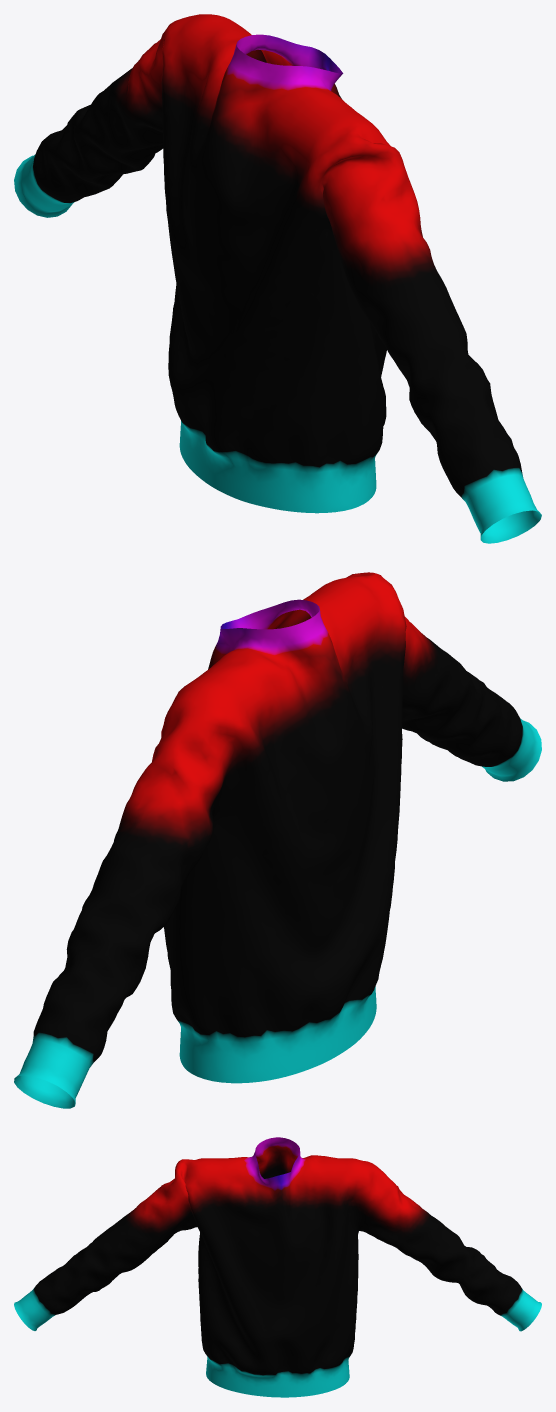
Rendered from crewneck_sweatshirt.fbx.
3 views of the same model, one above another, from view 1: azimuth 30°, elevation 25°; view 2: azimuth 150°, elevation 25°; view 3: azimuth 270°, elevation 25° (orthographic). The views are drawn at different scales.
Visible parts, largest first — view 1: crewneck_sweatshirt; view 2: crewneck_sweatshirt; view 3: crewneck_sweatshirt.
Boxes of the visible parts, bbox=[...] form: crewneck_sweatshirt: bbox=[14, 14, 541, 543]; crewneck_sweatshirt: bbox=[14, 572, 541, 1108]; crewneck_sweatshirt: bbox=[14, 1137, 541, 1397].
Size of the model in its own units: 27.14 by 129 by 62.56.
